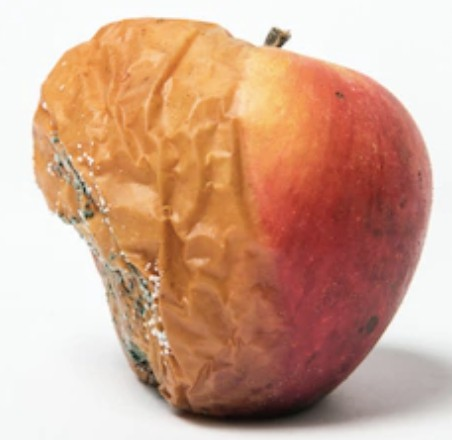rotten_apple: (32, 19, 431, 419)
